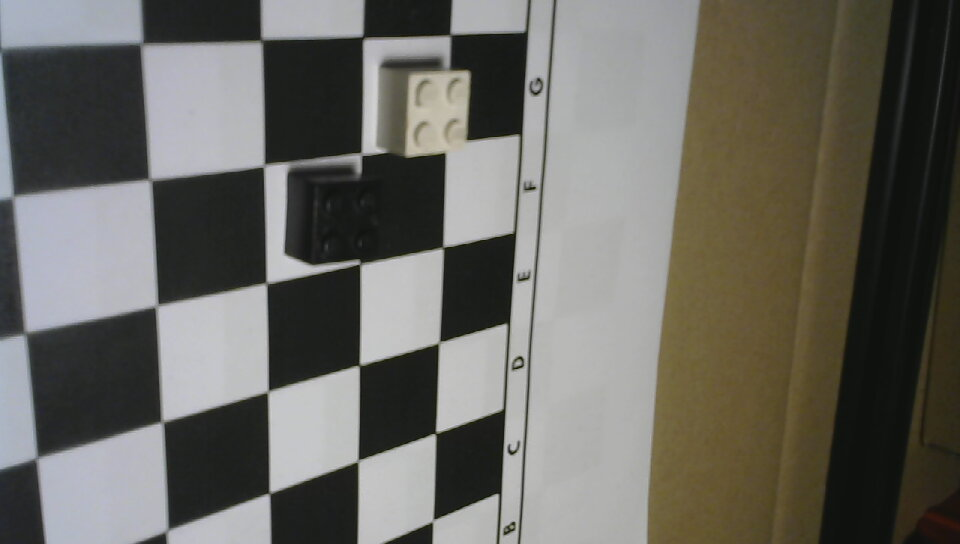wp: (373, 55, 477, 166)
